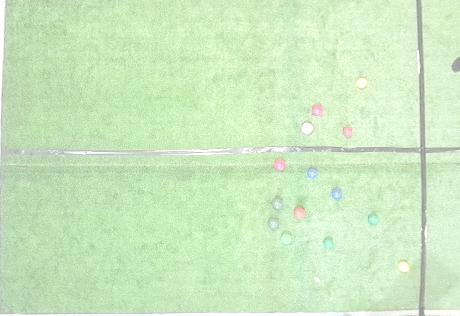blue: (332, 189, 342, 199), (308, 168, 317, 178)
green: (268, 218, 279, 229), (281, 233, 292, 244), (272, 199, 283, 209), (323, 238, 333, 248), (369, 214, 378, 225)
red: (301, 123, 313, 134), (312, 105, 323, 116), (274, 160, 285, 171), (342, 127, 353, 137), (294, 207, 304, 218)
vline: (416, 0, 459, 315), (0, 0, 9, 315)
white: (314, 277, 320, 282)
yellow: (398, 261, 409, 272), (356, 77, 367, 88)
